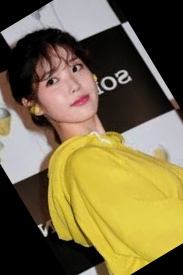earphone: (20, 91, 46, 121)
